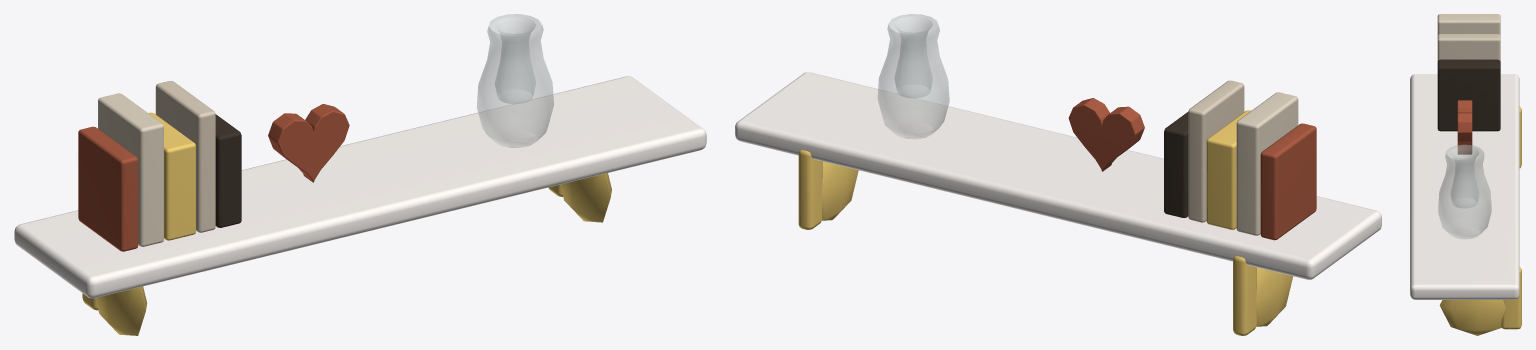
Rendered from shelf_wall.glb.
The picture shows the model from 3 angles, left to right: view 1: azimuth 30°, elevation 25°; view 2: azimuth 150°, elevation 25°; view 3: azimuth 270°, elevation 25°; orthographic projection. The views are drawn at different scales.
Visible parts, largest first — view 1: shelf_wall; view 2: shelf_wall; view 3: shelf_wall.
Boxes of the visible parts, x1,y1,x2,y2 form: shelf_wall: (14,14,706,335); shelf_wall: (735,14,1381,335); shelf_wall: (1410,14,1521,335).
Bounding box in the file's own units: 1.2 × 0.42 × 0.265.
